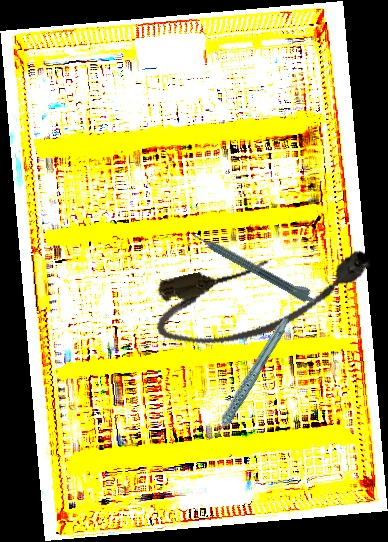Cannula: (147, 236, 383, 357)
Handpiece: (183, 315, 312, 444), (190, 225, 320, 307)
